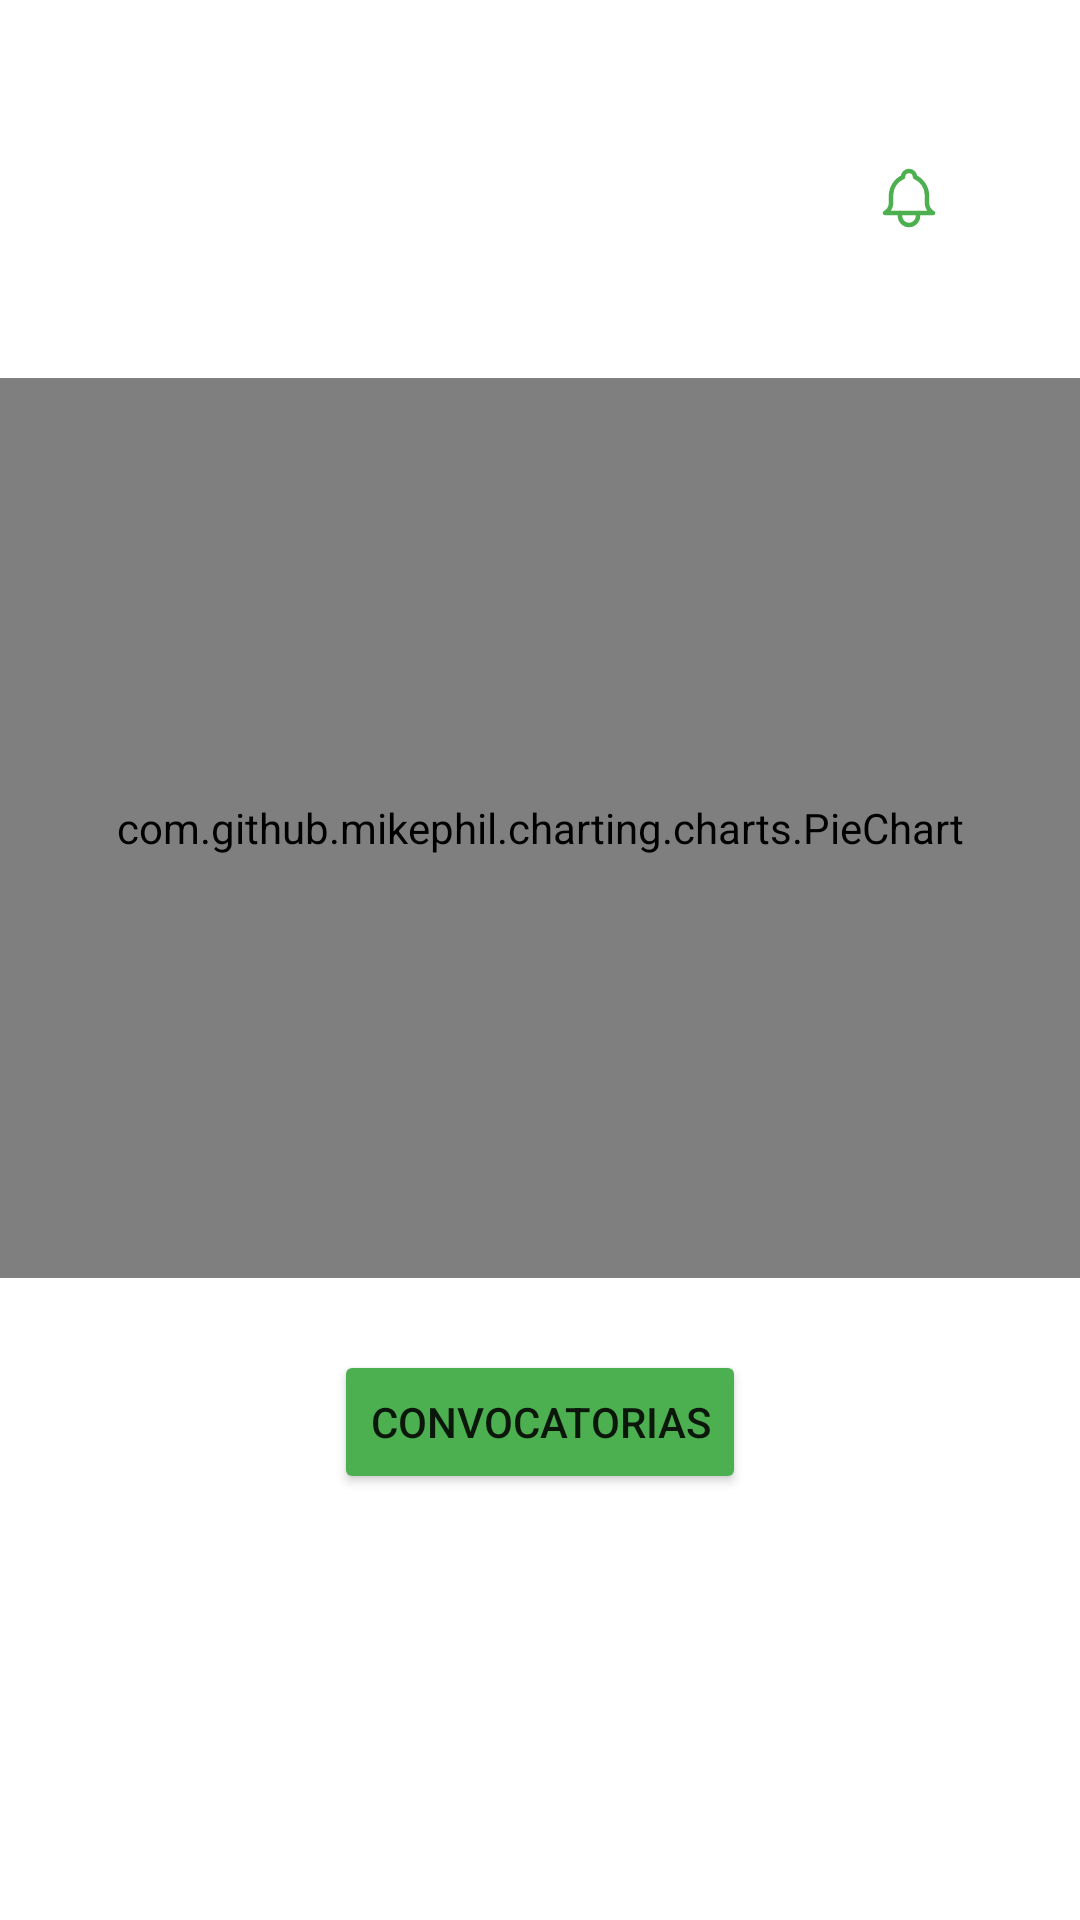

Named icons in this screenshot (1080*1920) and their bounding boxes, [x1=x1, y1=y1, x2=x2, y2=y2]:
notificaciones: [x1=883, y1=168, x2=936, y2=228]
